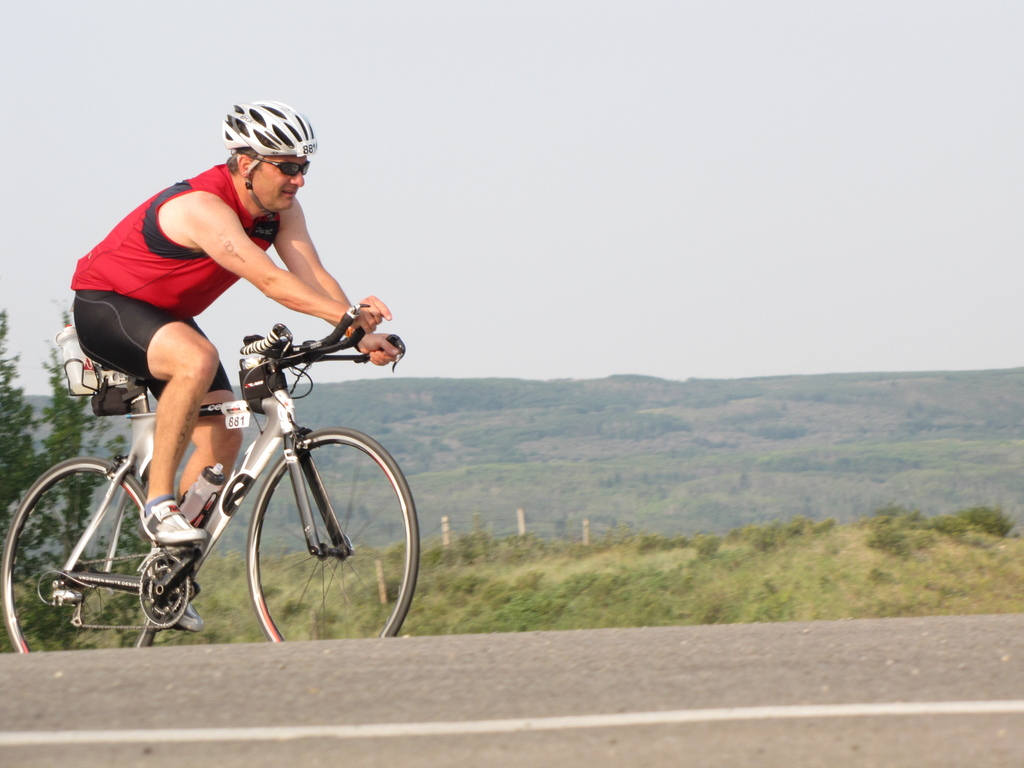Bike: (45, 299, 441, 706)
